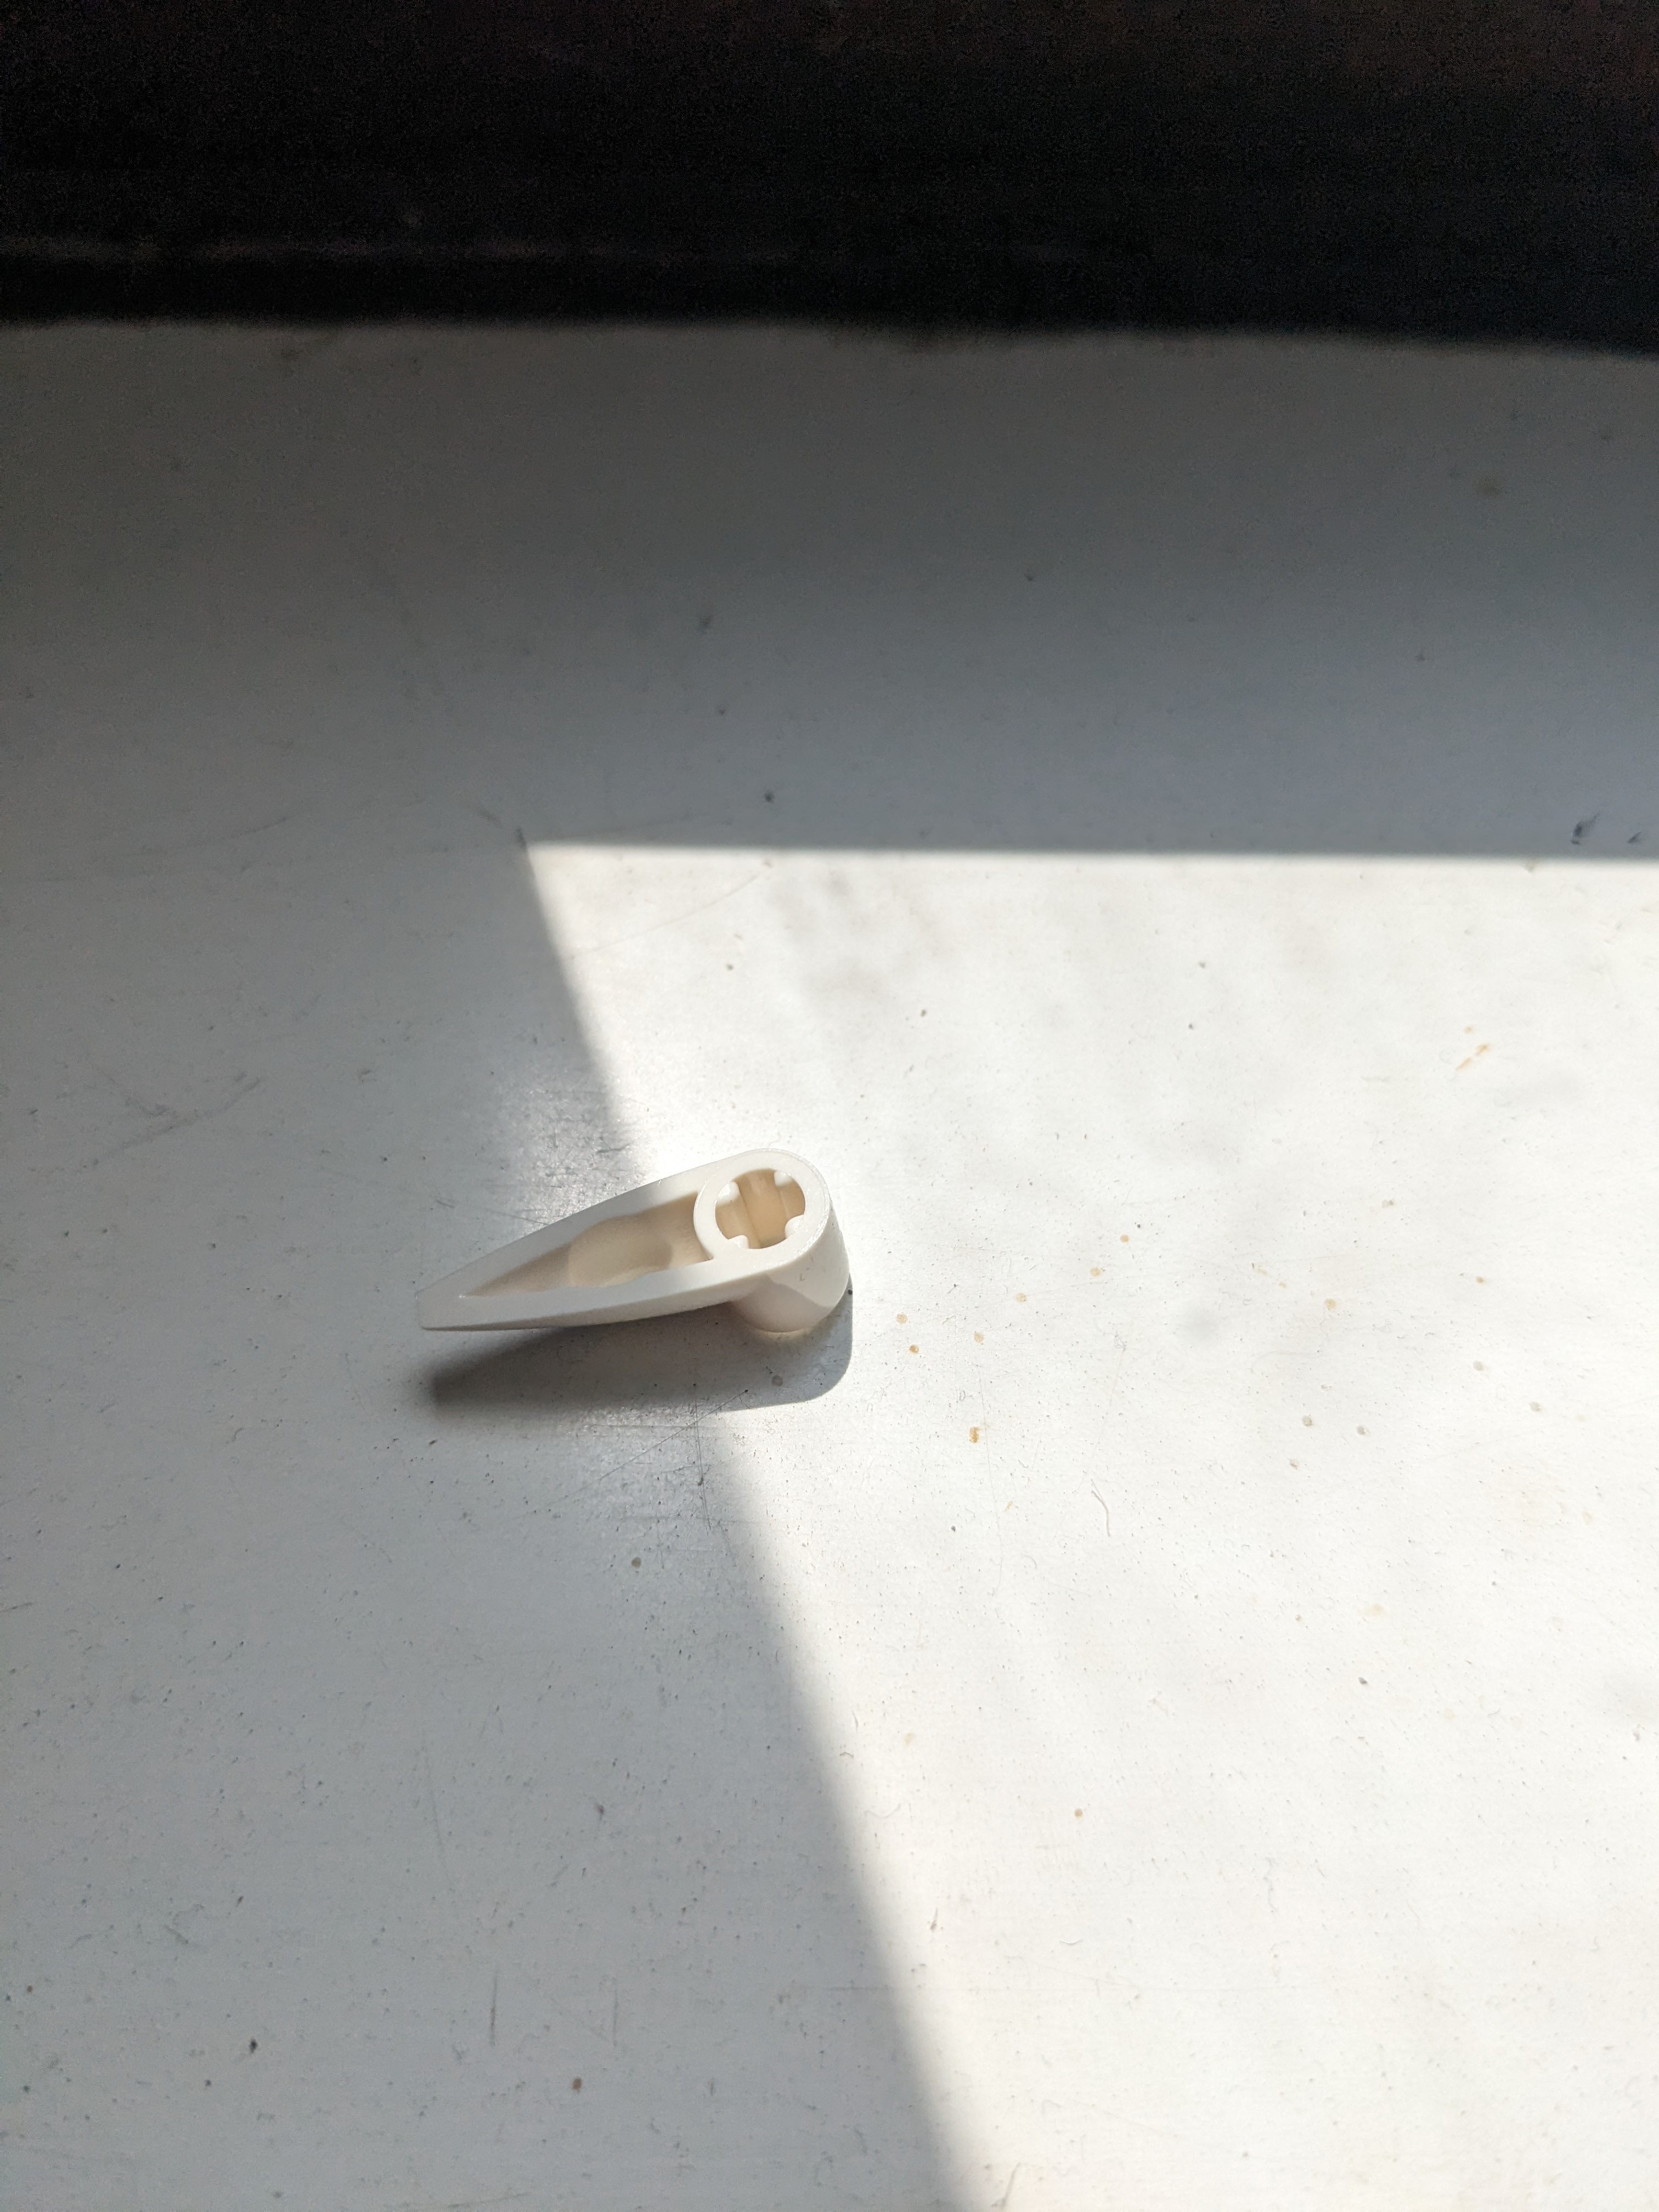Kappe: (403, 1134, 863, 1392)
